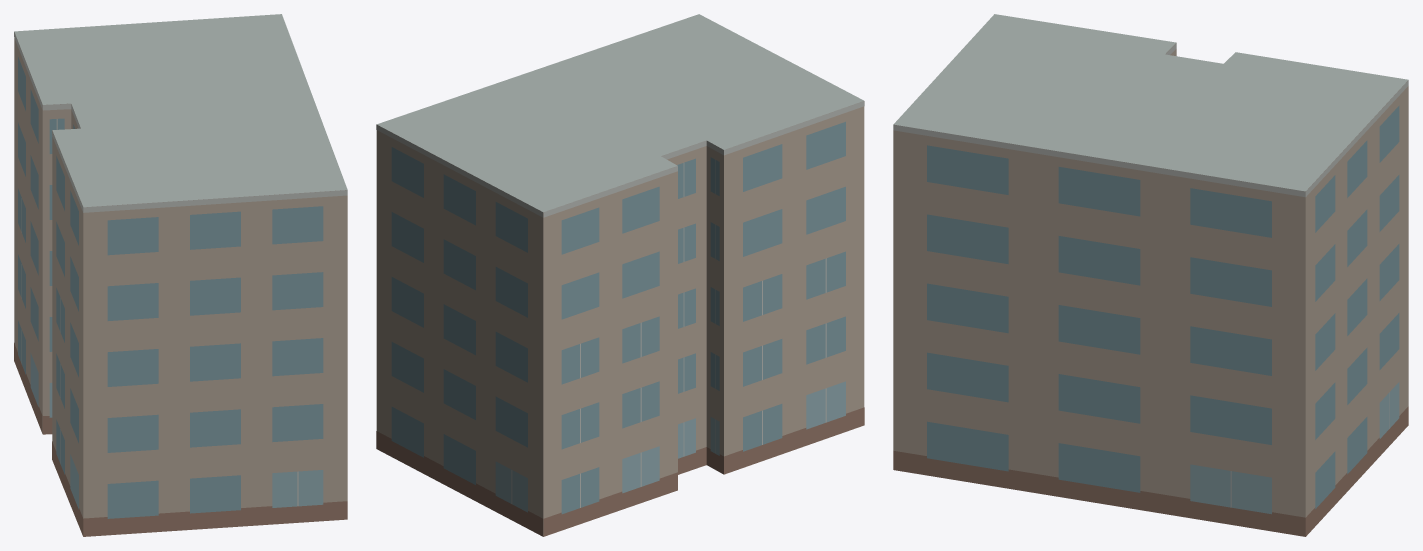
File: survey-upis-32935741.glb
3 views of the same model, side by side, from view 1: azimuth 30°, elevation 25°; view 2: azimuth 150°, elevation 25°; view 3: azimuth 270°, elevation 25° (orthographic). The views are drawn at different scales.
Parts seen in each view (by area): view 1: survey-upis-32935741.tmp; view 2: survey-upis-32935741.tmp; view 3: survey-upis-32935741.tmp.
Boxes of the visible parts, left/top/right/bottom form: survey-upis-32935741.tmp: left=14, top=14, right=347, bottom=536; survey-upis-32935741.tmp: left=376, top=14, right=864, bottom=536; survey-upis-32935741.tmp: left=893, top=14, right=1408, bottom=536.
Bounding box in the file's own units: 15.99 × 14.5 × 19.62.
